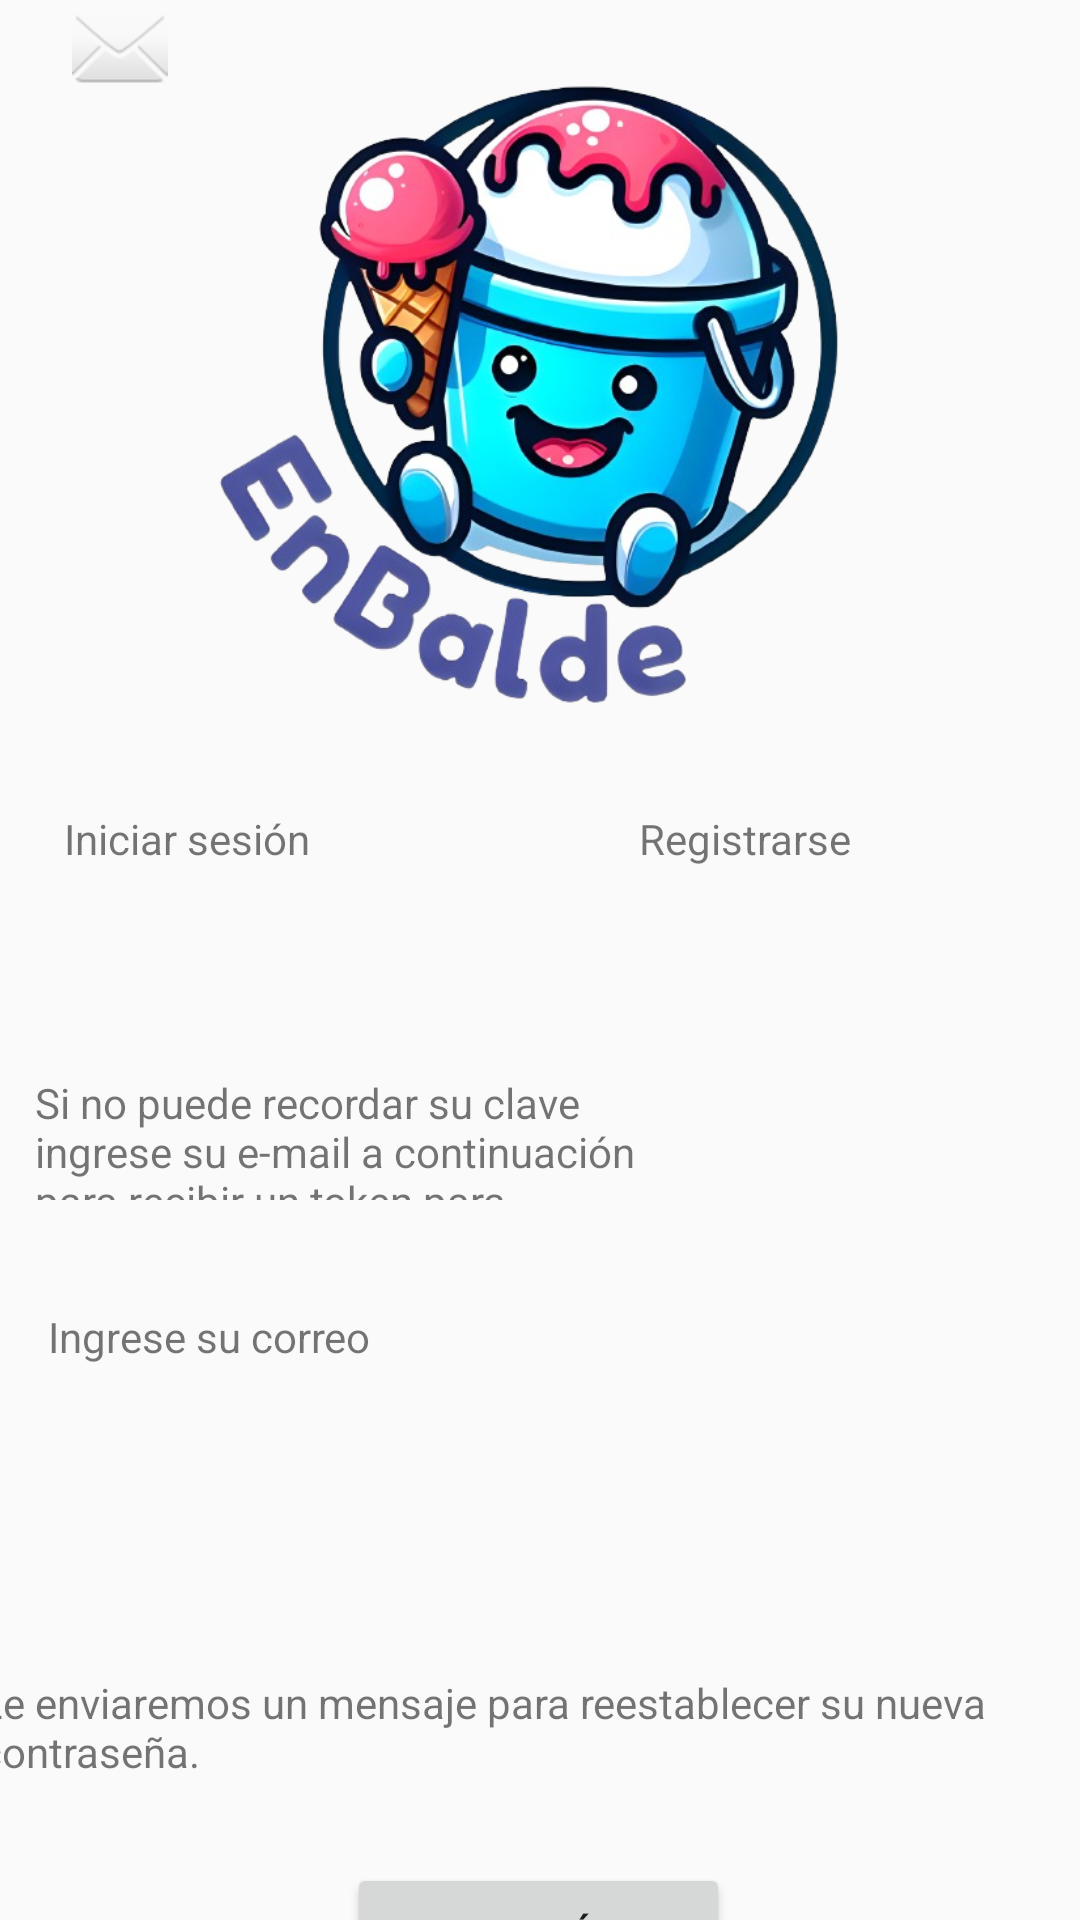

Named icons in this screenshot (1080×1920) and their centers, (x,y):
email: (120,50)
